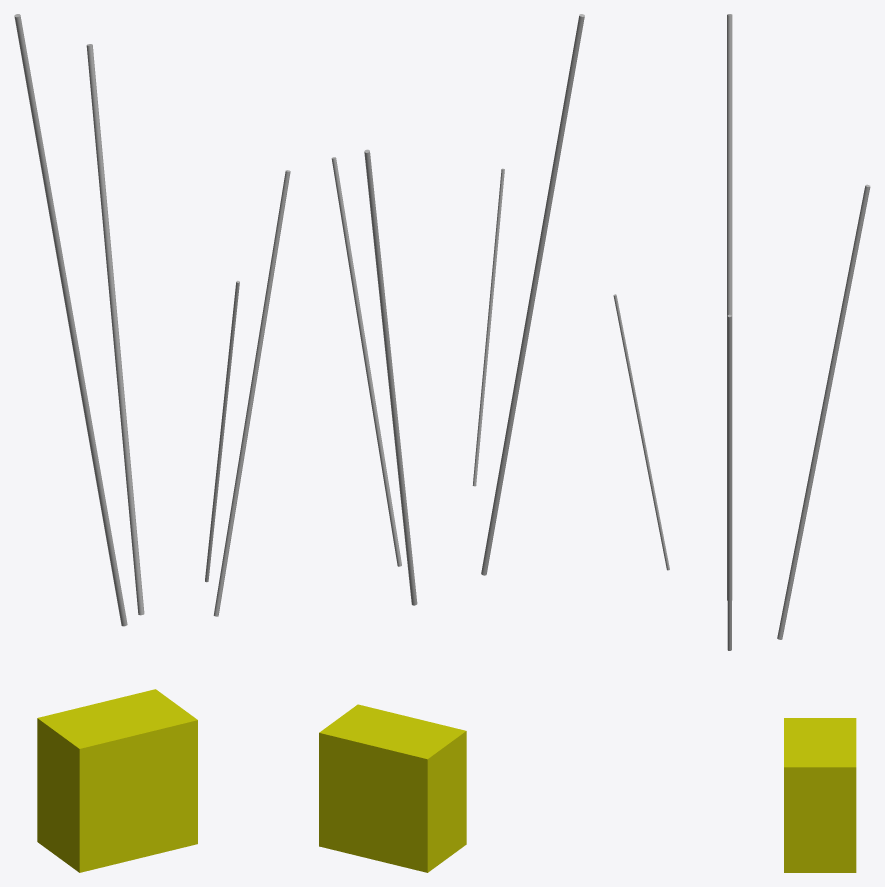
Rendered from SatRadio1Unity.fbx.
The picture shows the model from 3 angles, left to right: view 1: azimuth 30°, elevation 25°; view 2: azimuth 150°, elevation 25°; view 3: azimuth 270°, elevation 25°; orthographic projection. The views are drawn at different scales.
Visible parts, largest first — view 1: pCube1, pCylinder4, pCylinder2, pCylinder3, pCylinder1; view 2: pCube1, pCylinder4, pCylinder2, pCylinder3, pCylinder1; view 3: pCube1, pCylinder2, pCylinder4, pCylinder3, pCylinder1.
Part boxes in pixels (box(x1,y1,x2,y2)): pCube1: box(37, 689, 197, 872); pCylinder4: box(14, 14, 127, 626); pCylinder2: box(86, 44, 144, 615); pCylinder3: box(213, 170, 290, 616); pCylinder1: box(205, 280, 239, 582); pCube1: box(319, 704, 466, 872); pCylinder4: box(481, 14, 584, 575); pCylinder2: box(364, 149, 417, 605); pCylinder3: box(331, 157, 401, 566); pCylinder1: box(472, 168, 504, 486); pCube1: box(784, 718, 856, 872); pCylinder2: box(777, 184, 870, 639); pCylinder4: box(727, 14, 732, 600); pCylinder3: box(727, 314, 731, 650); pCylinder1: box(613, 294, 669, 570).
Bounding box in the file's own units: 0.4651 × 1.46 × 0.4411.
